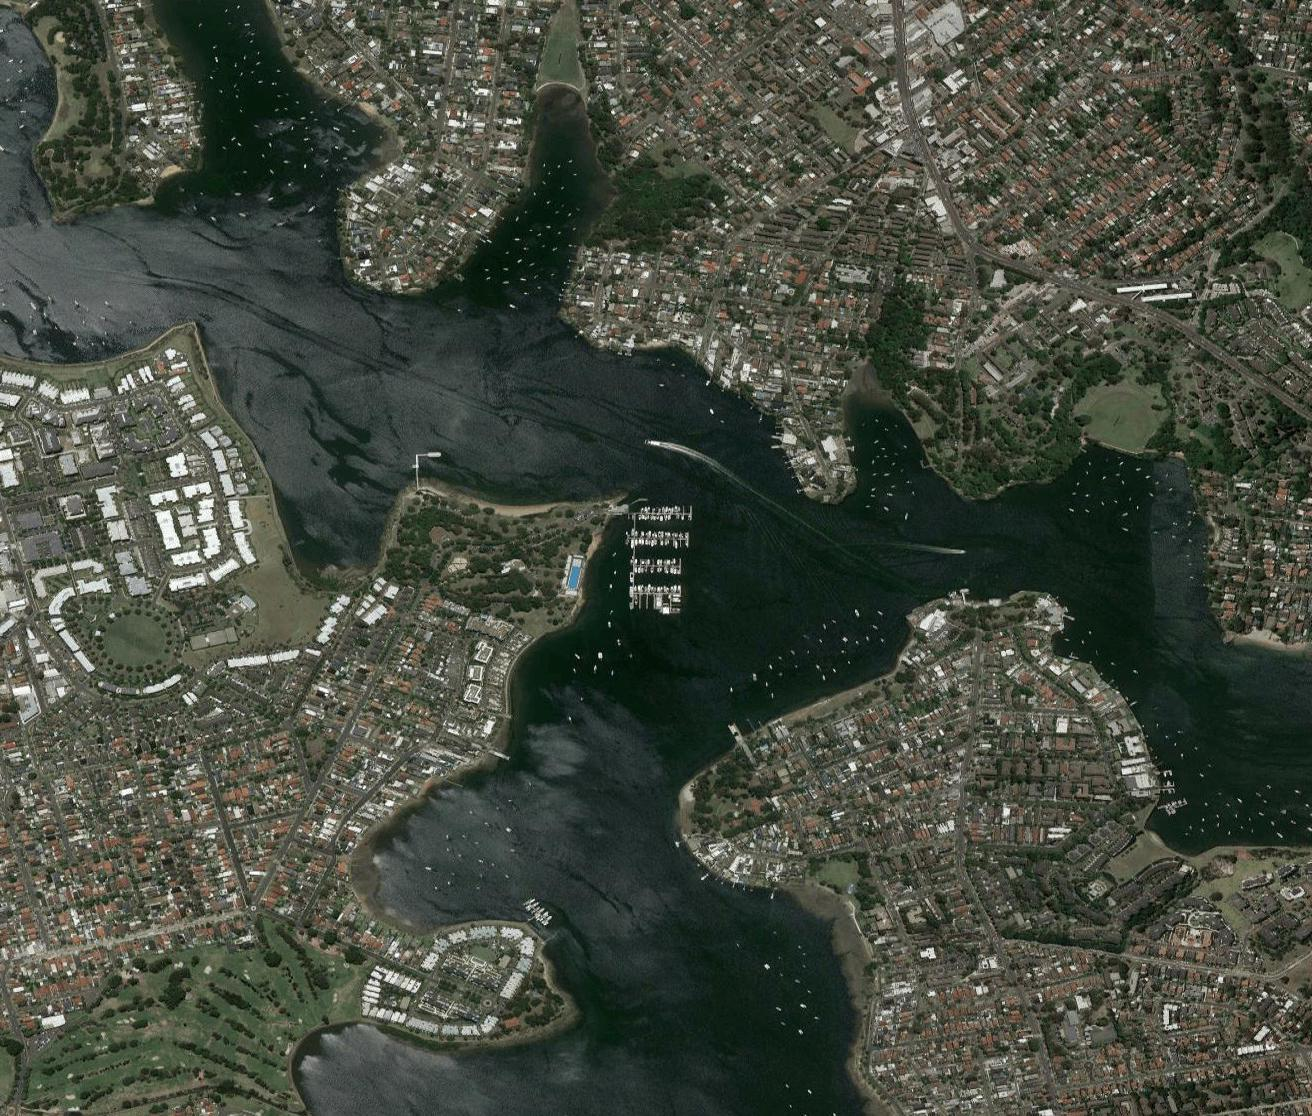harbor: (602, 480, 706, 635)
